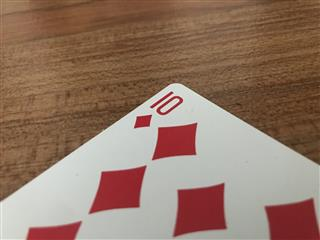TenOfDiamonds: (1, 81, 320, 240)
